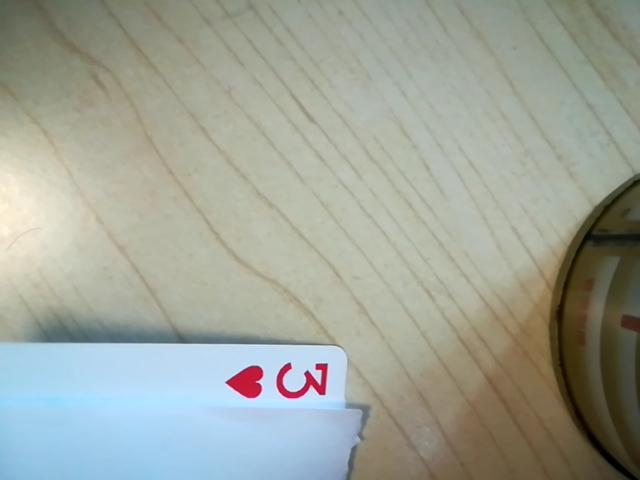hx 3: (226, 353, 341, 412)
